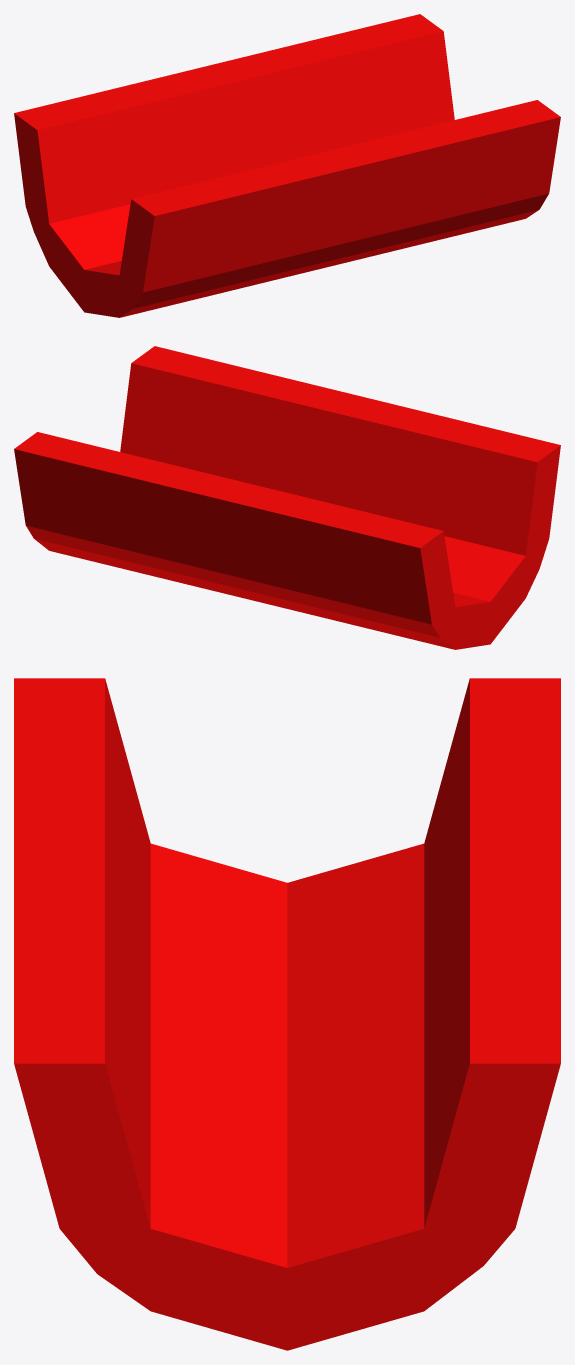
Rendered from Slide.fbx.
3 renders of one model, top to bottom at view 1: azimuth 30°, elevation 25°; view 2: azimuth 150°, elevation 25°; view 3: azimuth 270°, elevation 25°, orthographic. The views are drawn at different scales.
Parts seen in each view (by area): view 1: Cube; view 2: Cube; view 3: Cube.
Boxes of the visible parts, x1,y1,x2,y2 form: Cube: (14,14,560,317); Cube: (14,346,560,649); Cube: (14,678,560,1350).
Bounding box in the file's own units: 200 × 69.53 × 120.
